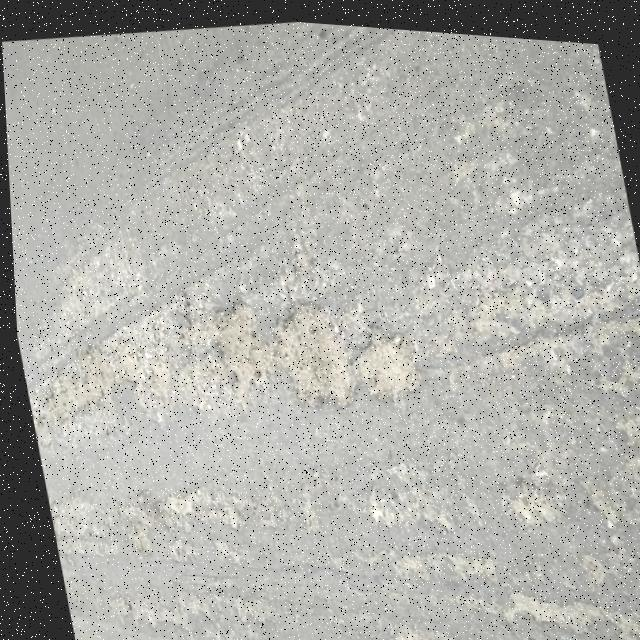pothole: (9, 227, 448, 486)
